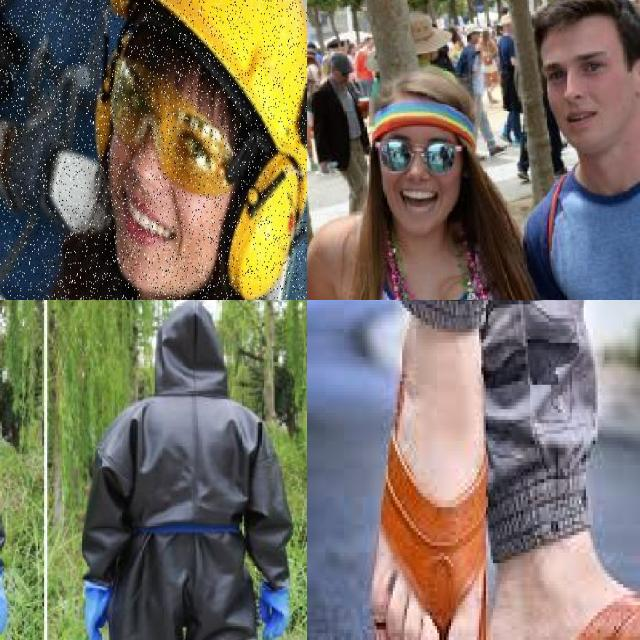Ear-protection: (230, 152, 307, 300)
No_Ear-Protection: (631, 53, 640, 96)
No_Glasses: (535, 49, 619, 89)
Sandals: (371, 334, 490, 640), (489, 541, 640, 640)
face_nomask: (376, 126, 462, 219), (542, 52, 618, 131)
glasses: (79, 103, 262, 170), (364, 118, 457, 182)
hand_glove: (256, 585, 294, 640), (81, 580, 108, 640), (0, 568, 13, 635)
head_helmet: (103, 0, 307, 65)
head_nohelmet: (364, 59, 477, 112), (532, 0, 627, 38), (157, 300, 219, 352)
person: (54, 300, 305, 640), (307, 57, 591, 300), (519, 0, 640, 300)
